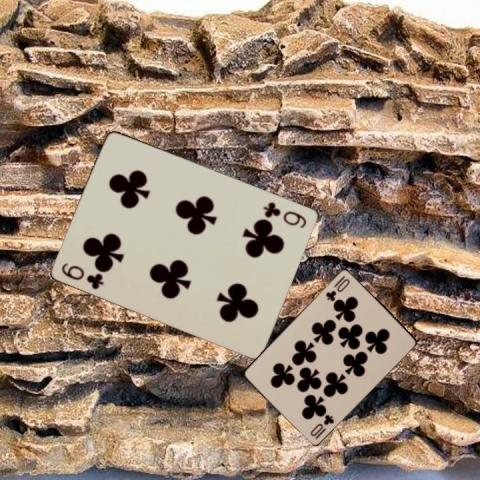10c: (323, 272, 351, 302), (308, 411, 336, 440)
6c: (260, 199, 308, 230), (59, 259, 105, 291)
